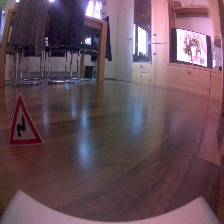vorsicht: (9, 92, 47, 148)
